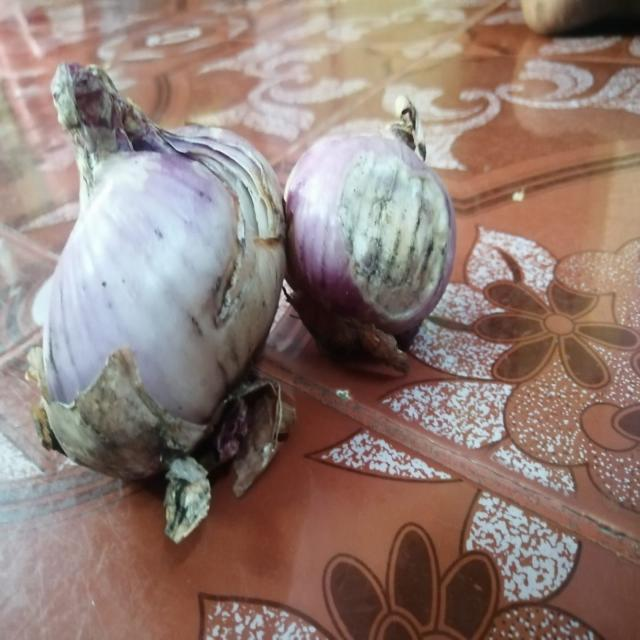rotten: (139, 126, 261, 332), (341, 180, 443, 301)
